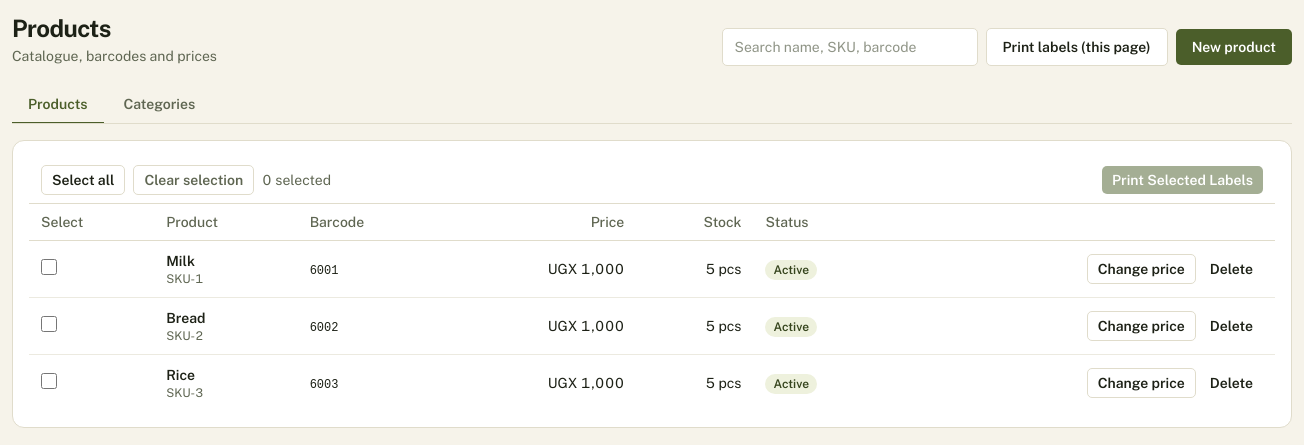
Scenario: product label selection › selects individual products, all results and clears, showing the count
Expected: the text "Milk" is shown, x1=166 y1=253 x2=195 y2=269
Expected: the button "Print Selected Labels" is disabled, x1=1102 y1=166 x2=1263 y2=194
What coordinates should you click on to do the following:
click the checkbox named "Select Milk"
I would click on:
 (49, 266)
Its box is x1=41 y1=258 x2=57 y2=274.
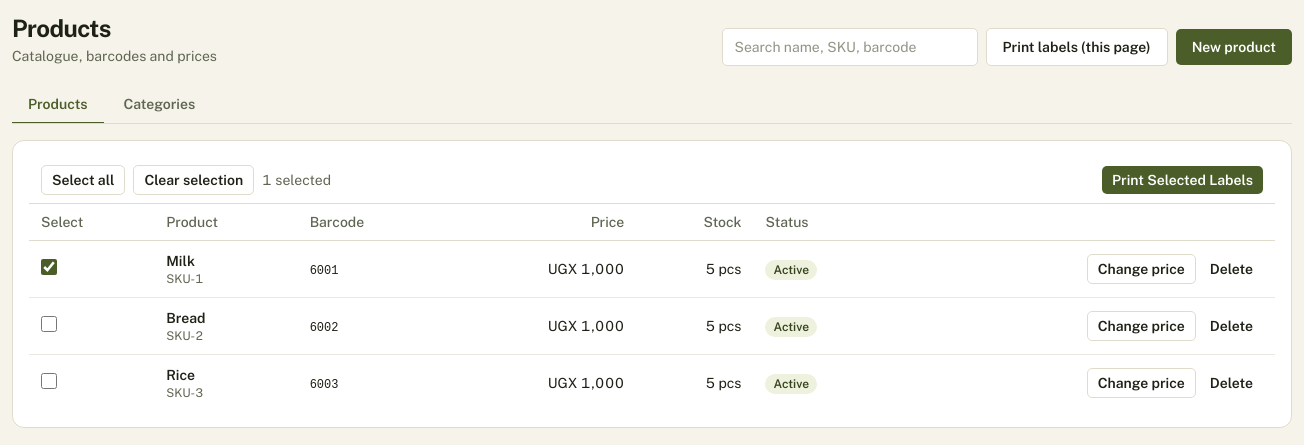
Expected: the text "1 selected" is shown, x1=262 y1=170 x2=331 y2=190
Expected: the button "Print Selected Labels" is enabled, x1=1102 y1=166 x2=1263 y2=194
What coordinates should you click on to do the following:
click the button "Select all"
I would click on:
 (83, 180)
Its box is x1=41 y1=165 x2=125 y2=195.
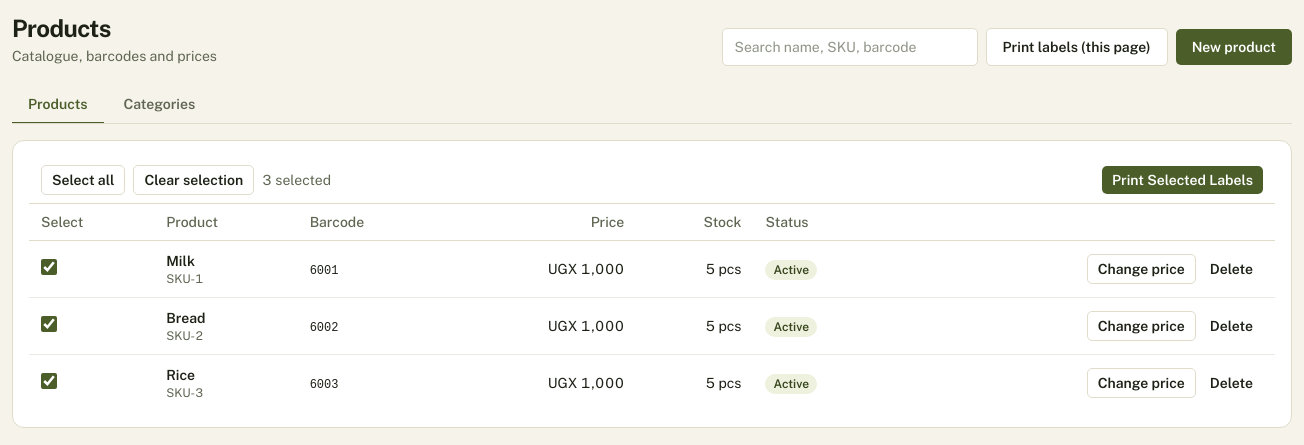
Expected: the text "3 selected" is shown, x1=262 y1=170 x2=331 y2=190
What coordinates should you click on to do the following:
click the checkbox named "Select Bread"
I would click on:
 (49, 324)
Its box is x1=41 y1=316 x2=57 y2=332.
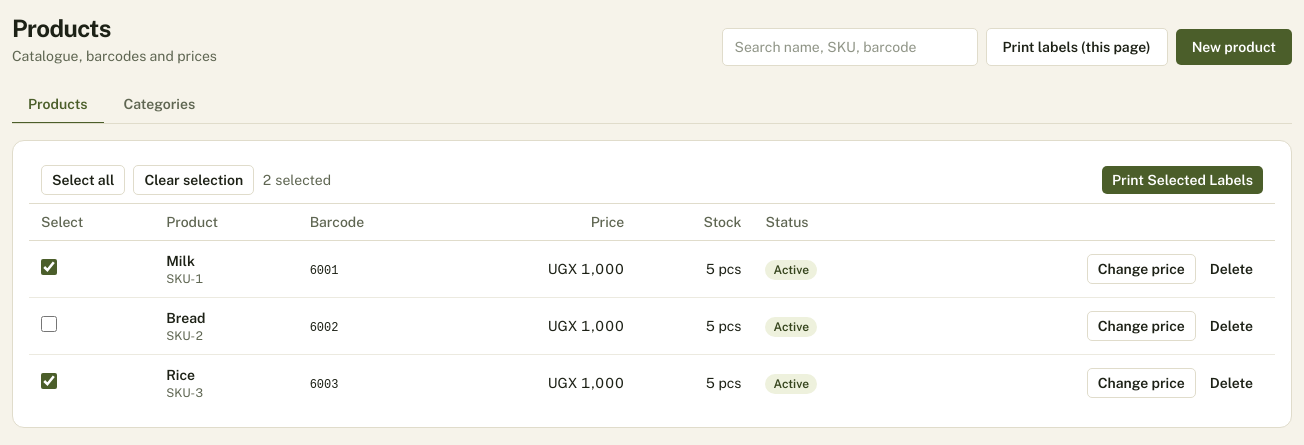
Expected: the text "2 selected" is shown, x1=262 y1=170 x2=331 y2=190
What coordinates should you click on to do the following:
click the button "Clear selection"
I would click on:
 (194, 180)
Its box is x1=133 y1=165 x2=254 y2=195.
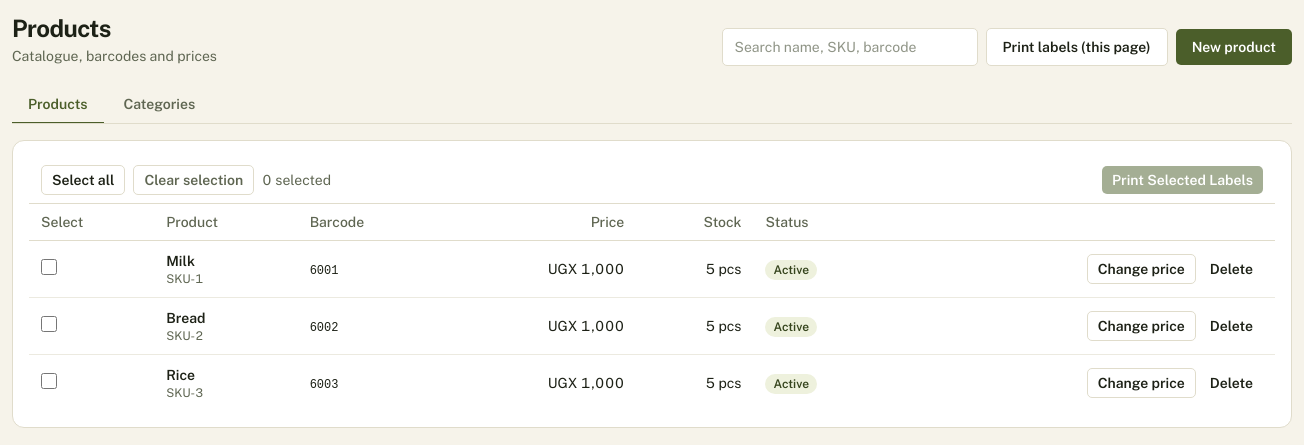
Expected: the text "0 selected" is shown, x1=262 y1=170 x2=331 y2=190
Expected: the button "Print Selected Labels" is disabled, x1=1102 y1=166 x2=1263 y2=194
